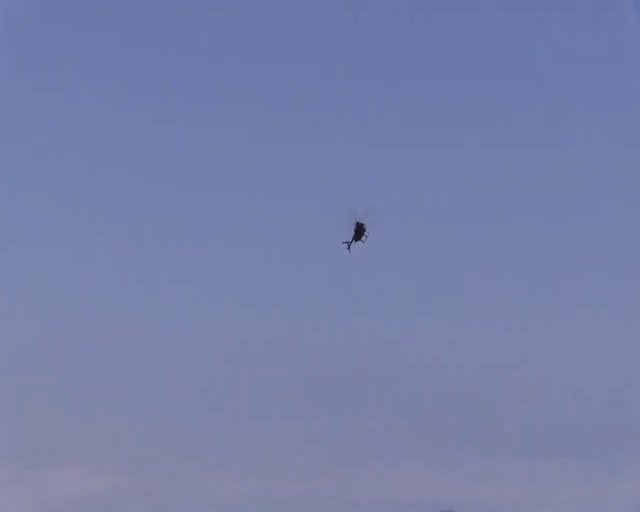HELICOPTER: (341, 219, 368, 253)
